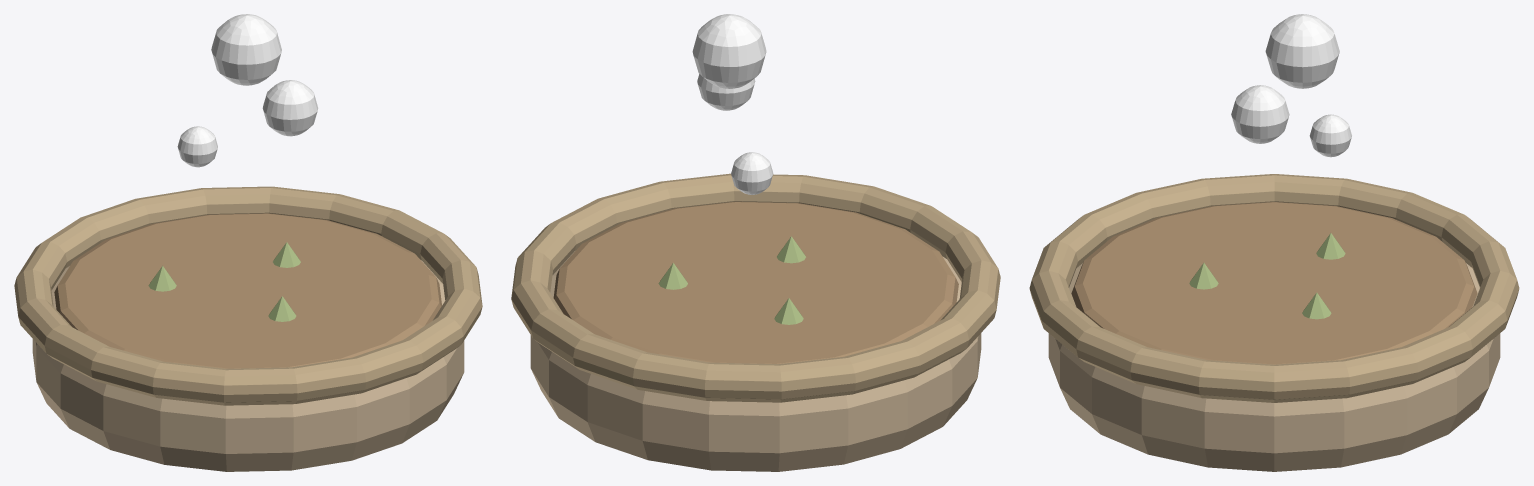
Rendered from pantry_stew.glb.
3 views of the same model, side by side, from view 1: azimuth 30°, elevation 25°; view 2: azimuth 150°, elevation 25°; view 3: azimuth 270°, elevation 25° (orthographic). The views are drawn at different scales.
Visible parts, largest first — view 1: Stew, Rim, Bowl, Steam2, Steam1, Steam0; view 2: Stew, Rim, Bowl, Steam2, Steam0, Steam1; view 3: Stew, Rim, Bowl, Steam2, Steam1, Steam0.
Boxes of the visible parts, x1=… form: Stew: x1=54, y1=213, x2=441, y2=368; Rim: x1=14, y1=186, x2=482, y2=405; Bowl: x1=32, y1=260, x2=464, y2=471; Steam2: x1=211, y1=14, x2=281, y2=85; Steam1: x1=262, y1=80, x2=318, y2=136; Steam0: x1=177, y1=126, x2=217, y2=167; Stew: x1=553, y1=201, x2=958, y2=363; Rim: x1=511, y1=173, x2=1000, y2=402; Bowl: x1=530, y1=251, x2=981, y2=471; Steam2: x1=692, y1=14, x2=766, y2=88; Steam0: x1=731, y1=152, x2=773, y2=194; Steam1: x1=697, y1=74, x2=755, y2=110; Stew: x1=1071, y1=202, x2=1477, y2=364; Rim: x1=1029, y1=174, x2=1519, y2=402; Bowl: x1=1048, y1=263, x2=1500, y2=471; Steam2: x1=1265, y1=14, x2=1339, y2=88; Steam1: x1=1231, y1=85, x2=1289, y2=143; Steam0: x1=1309, y1=114, x2=1351, y2=157.
Bounding box in the file's own units: 0.1737 × 0.149 × 0.1737.
